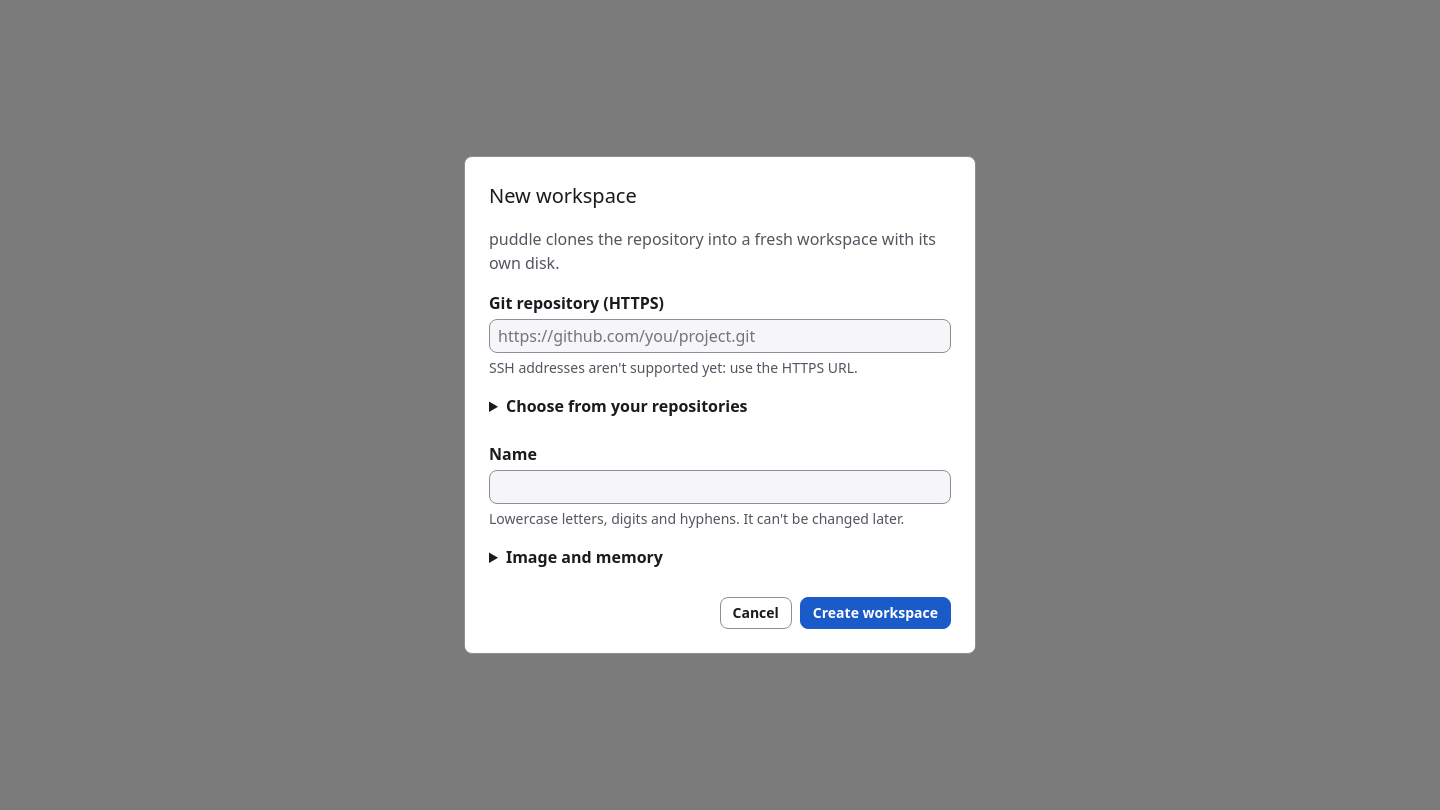
Test: CreateWorkspaceDialog › checks the memory field too
The width and height of the screenshot is (1440, 810).
Expected: the dialog is shown, [464,156,976,654]
Type "https://github.com/acme/web.git" into the field labelled "Git repository (HTTPS)" at (720, 336), box [489,319,951,353]
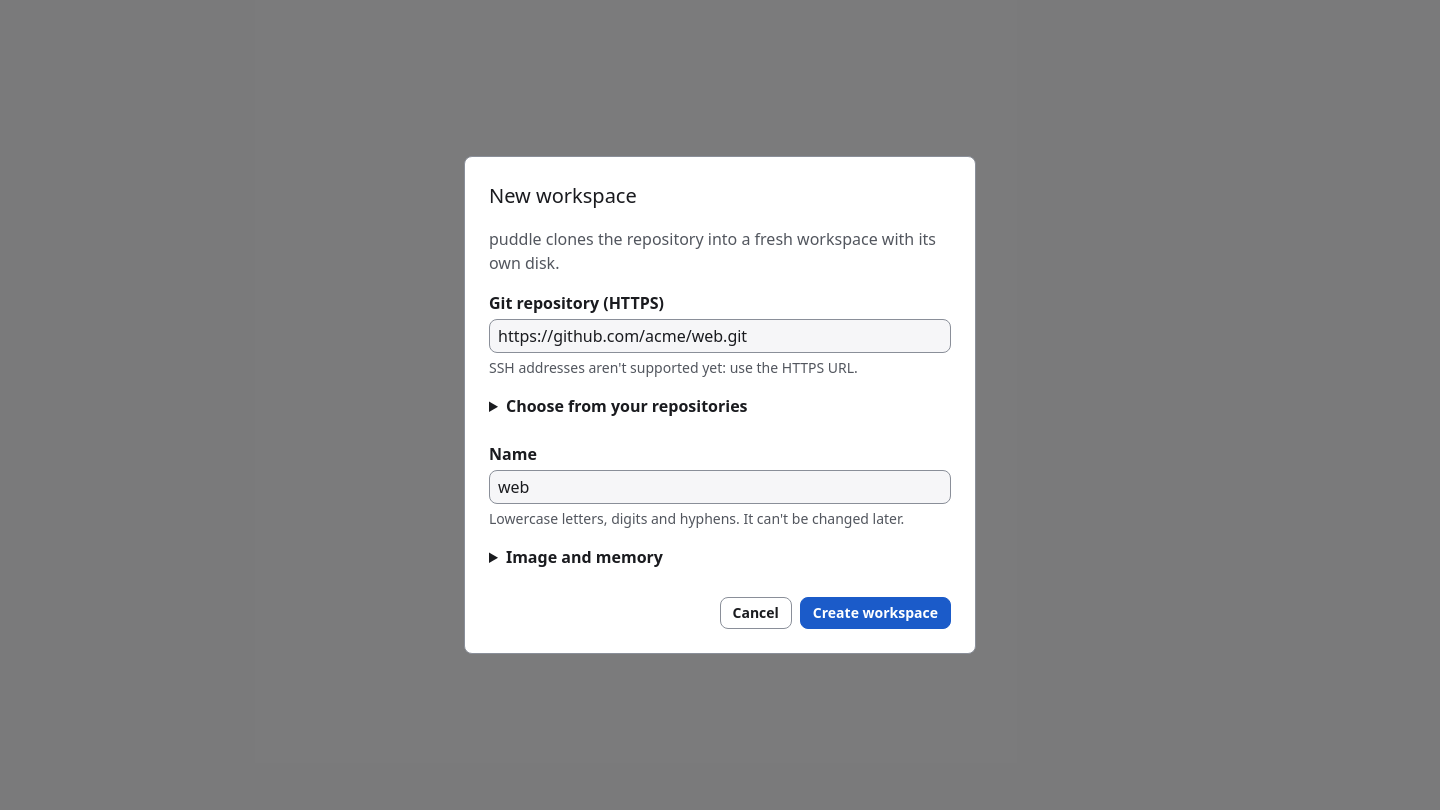
Click the heading "Image and memory" at (584, 557), box [506,546,663,568]
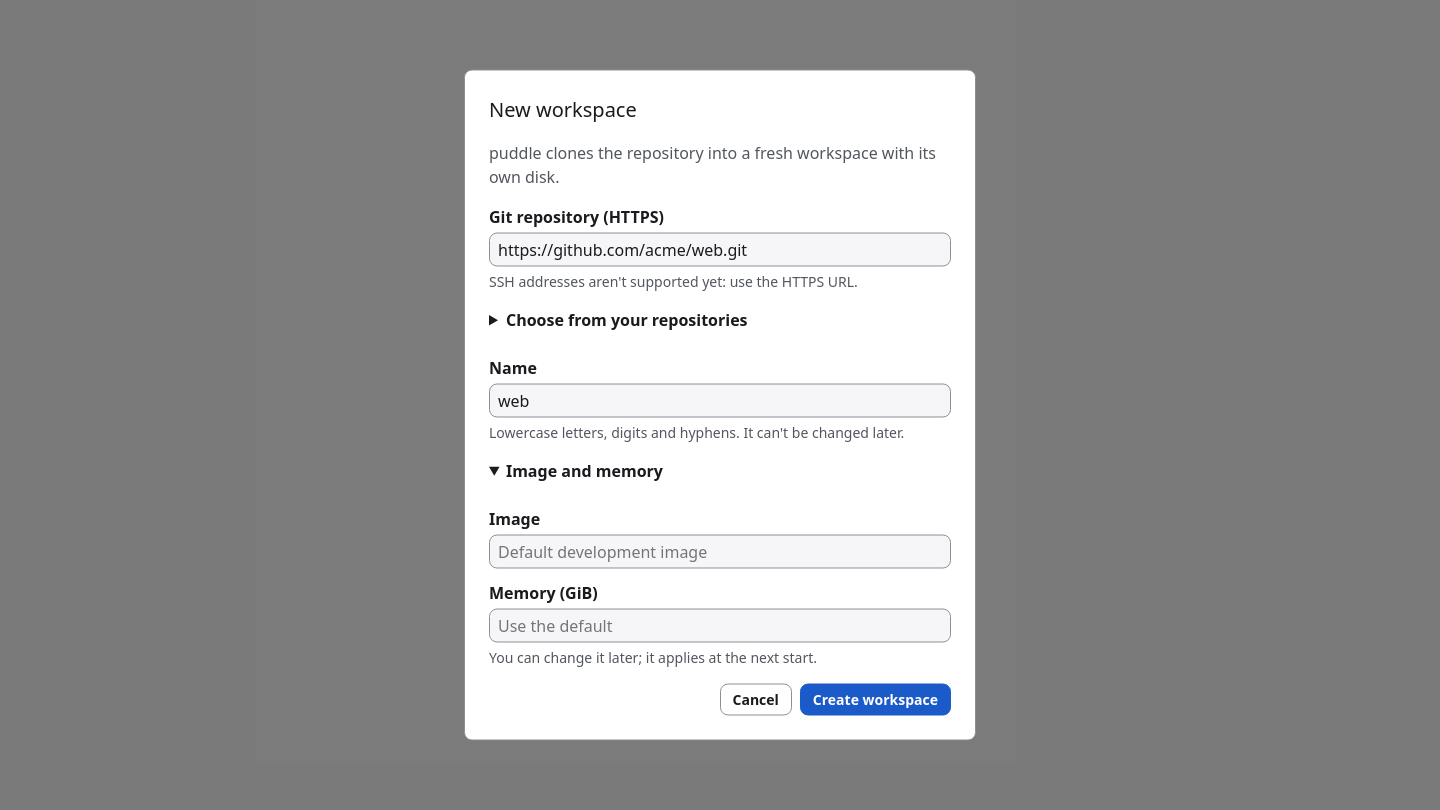
Type "plenty" into the field labelled "Memory (GiB)" at (720, 626), box [489,608,951,642]
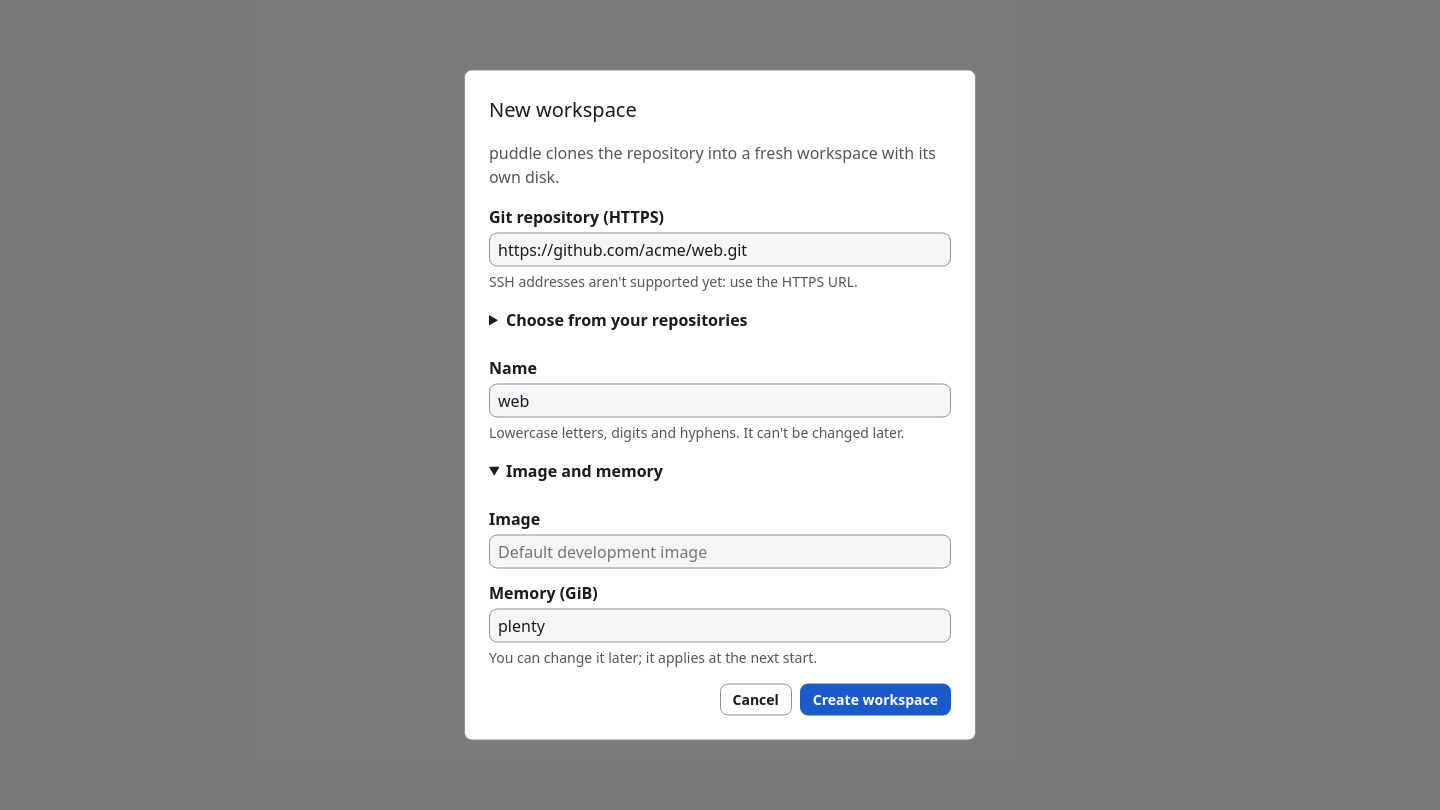
Click the button "Create workspace" at (875, 700), box [800,684,951,716]
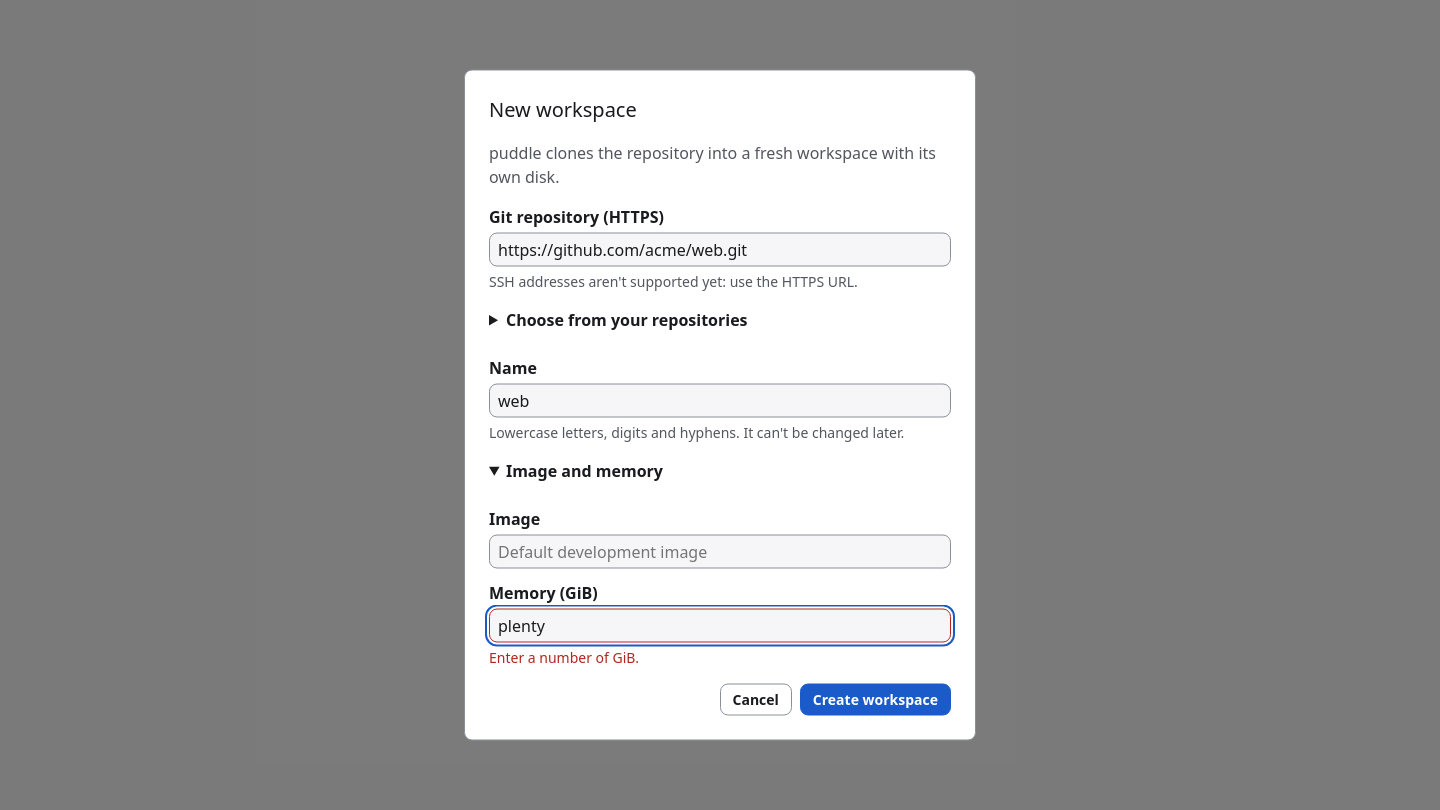
Now the message reads "Enter a number of GiB.", box [489,648,639,666]
